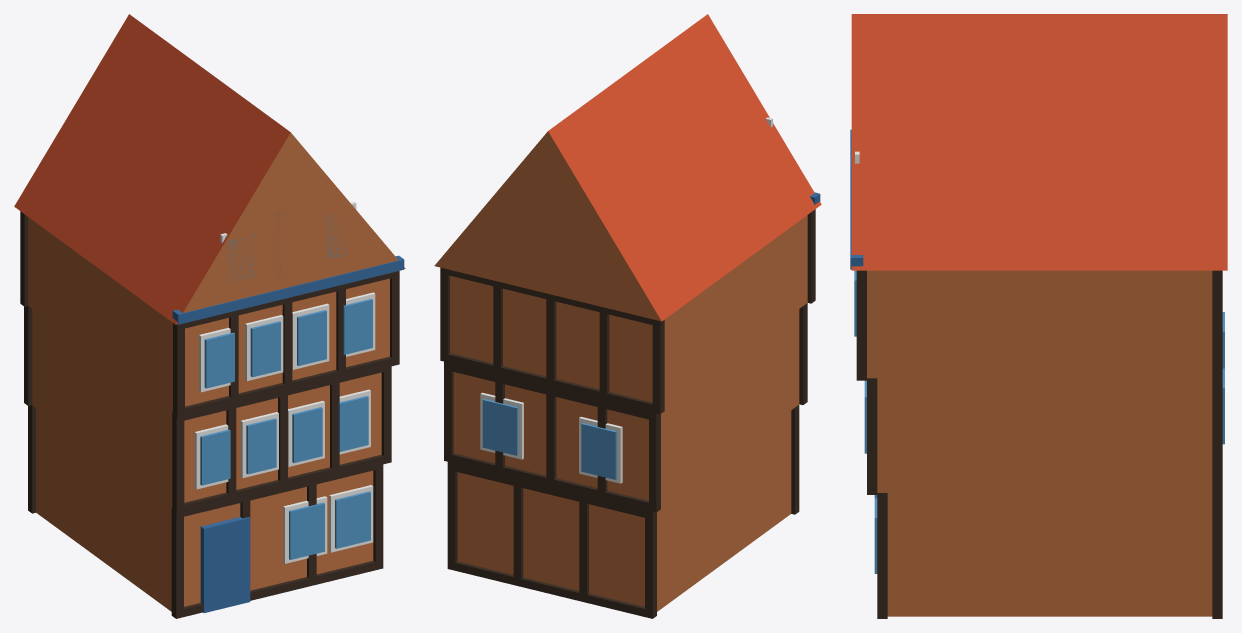
File: 12_stade_brick_3.obj
3 views of the same model, side by side, from view 1: azimuth 30°, elevation 25°; view 2: azimuth 150°, elevation 25°; view 3: azimuth 270°, elevation 25° (orthographic). The views are drawn at different scales.
Parts seen in each view (by area): view 1: 12_stade_brick_3; view 2: 12_stade_brick_3; view 3: 12_stade_brick_3.
Boxes of the visible parts, bbox=[...] form: 12_stade_brick_3: bbox=[14, 14, 405, 618]; 12_stade_brick_3: bbox=[434, 14, 821, 618]; 12_stade_brick_3: bbox=[850, 14, 1227, 618].
Size of the model in its own units: 1.2 by 2.34 by 1.46.
